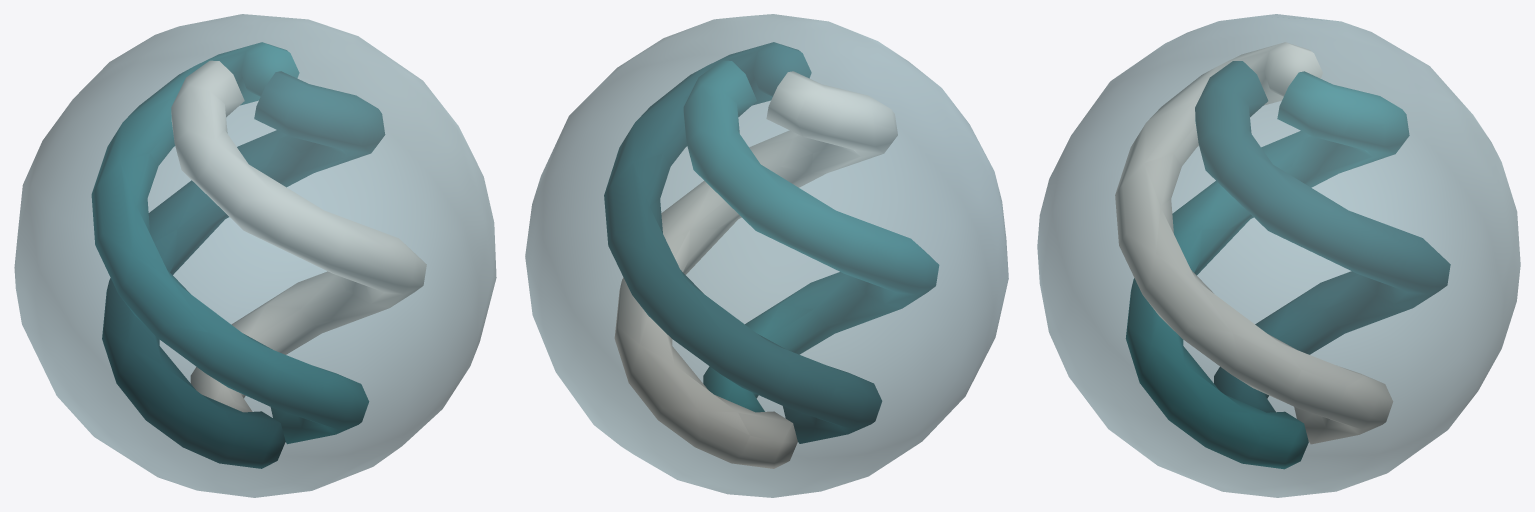
The model's file is grotto_marble_lod1.glb.
The picture shows the model from 3 angles, left to right: view 1: azimuth 30°, elevation 25°; view 2: azimuth 150°, elevation 25°; view 3: azimuth 270°, elevation 25°; orthographic projection.
Parts seen in each view (by area): view 1: grotto_marble.001; view 2: grotto_marble.001; view 3: grotto_marble.001.
Boxes of the visible parts, x1,y1,x2,y2 form: grotto_marble.001: [14, 14, 496, 497]; grotto_marble.001: [525, 14, 1008, 497]; grotto_marble.001: [1037, 14, 1520, 497].
Bounding box in the file's own units: 5.99 × 6 × 6.
